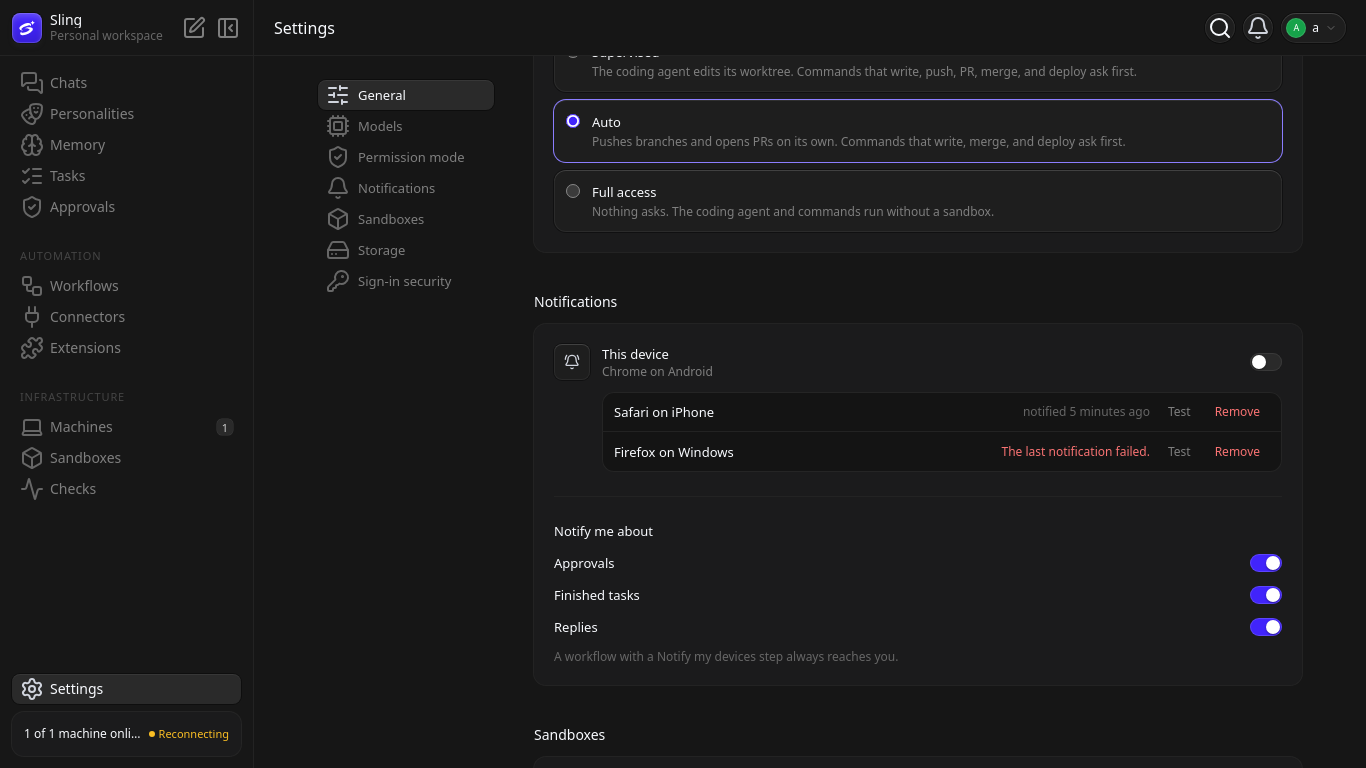
Settings → Notifications › lists the devices, sends a test notification, and removes one
(page scrolled)
Expected: the text "The last notification failed." is shown, [1002,443,1150,460]
Click the button with aria-label "Send a test notification to Safari on iPhone".
click(1179, 412)  # box [1158,398,1201,424]
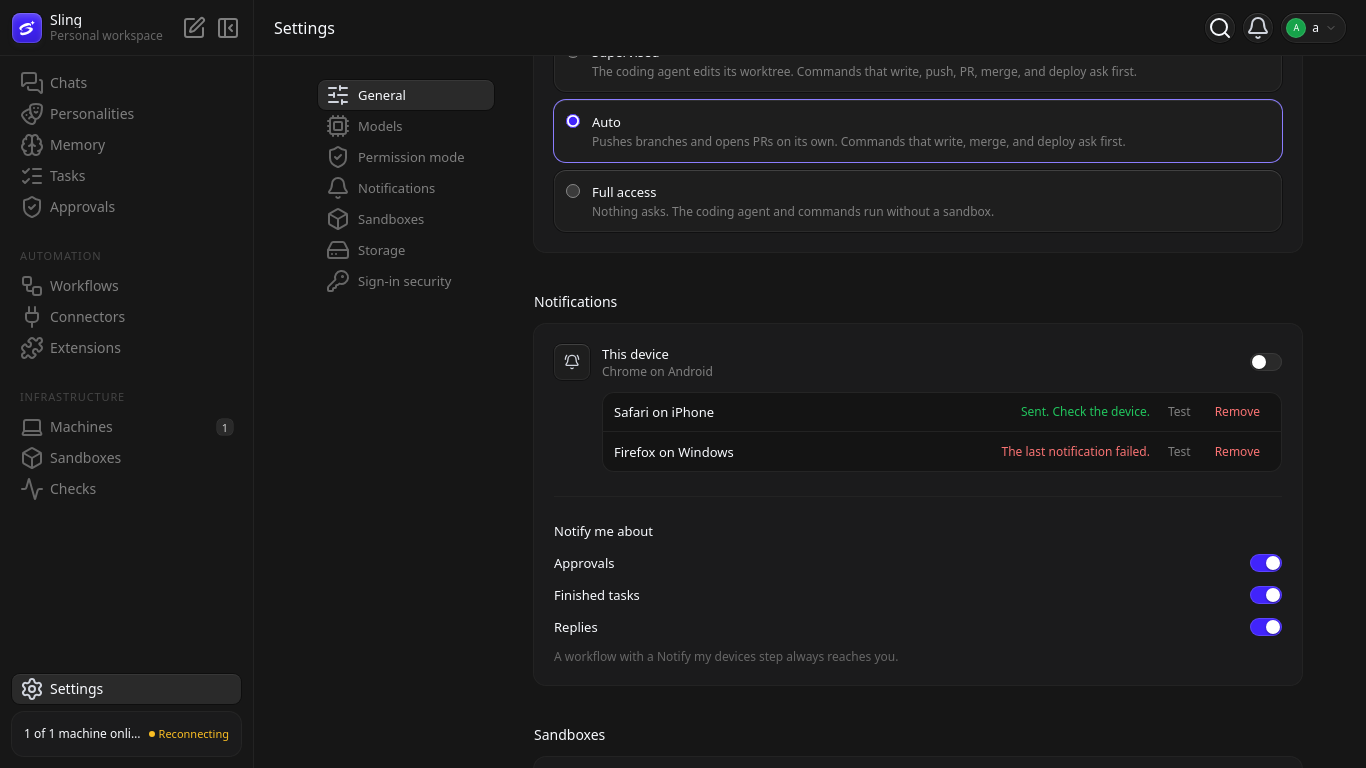
Expected: the text "Sent. Check the device." is shown, [1021,402,1150,420]
Click the button with aria-label "Remove Firefox on Windows".
click(1237, 452)  # box [1205,439,1270,465]
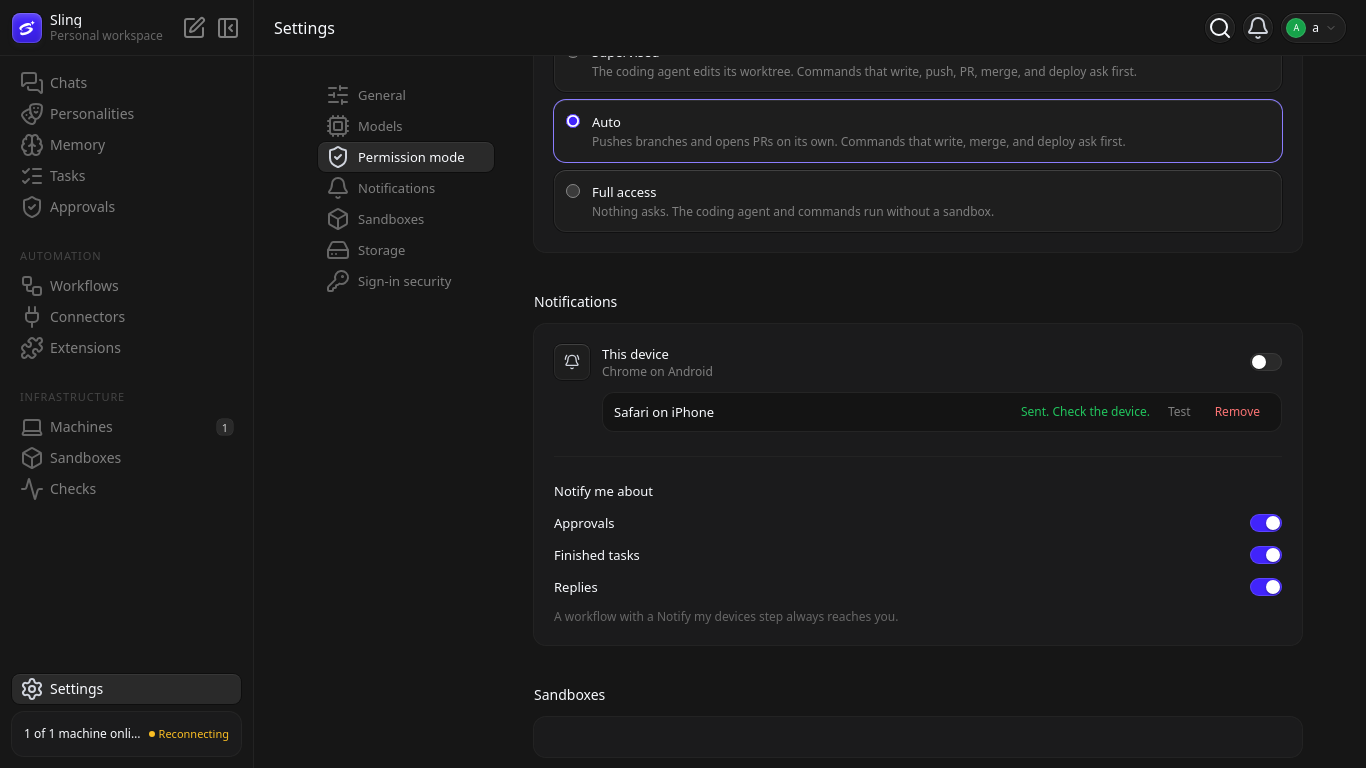
Expected: the text "Firefox on Windows" is gone
